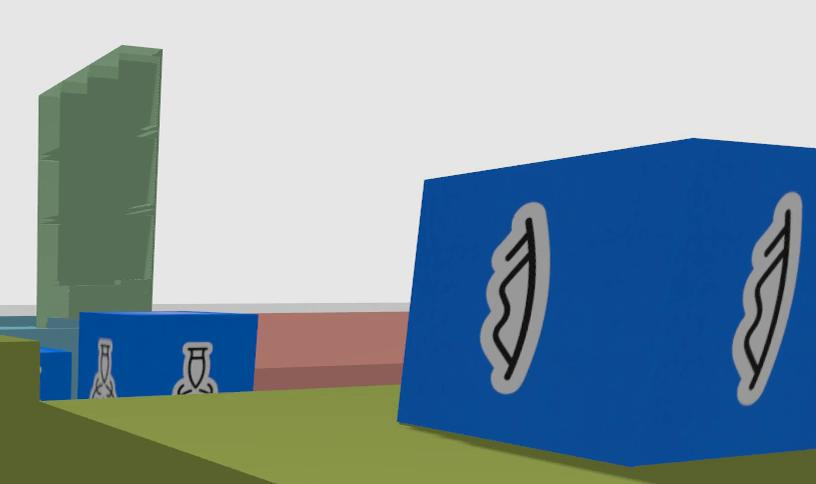KFS_REAL: (399, 139, 815, 464), (76, 312, 258, 398), (732, 192, 802, 405), (480, 203, 550, 393), (172, 342, 217, 392), (89, 338, 114, 397)
